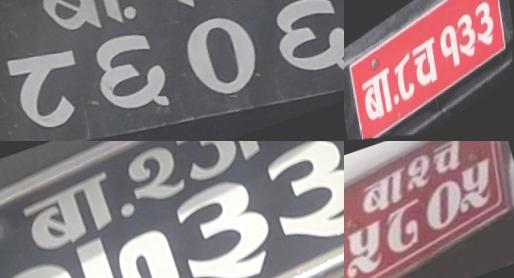0: (176, 6, 271, 110), (418, 177, 471, 234)
1: (120, 0, 207, 27), (436, 20, 462, 85)
2: (113, 141, 194, 217), (400, 155, 433, 192)
3: (167, 171, 290, 278), (257, 141, 344, 261), (455, 8, 480, 70), (472, 0, 498, 59)
5: (455, 159, 502, 212), (344, 222, 386, 275)
6: (86, 17, 185, 135), (260, 0, 344, 96)
7: (69, 211, 198, 278)
8: (0, 29, 101, 141), (379, 199, 428, 255), (392, 48, 418, 109)
ba: (14, 170, 123, 262), (29, 0, 144, 53), (358, 61, 397, 134), (354, 170, 408, 214)
cha: (410, 32, 441, 98), (430, 141, 468, 175)
ja: (166, 141, 282, 194), (189, 0, 294, 22)
